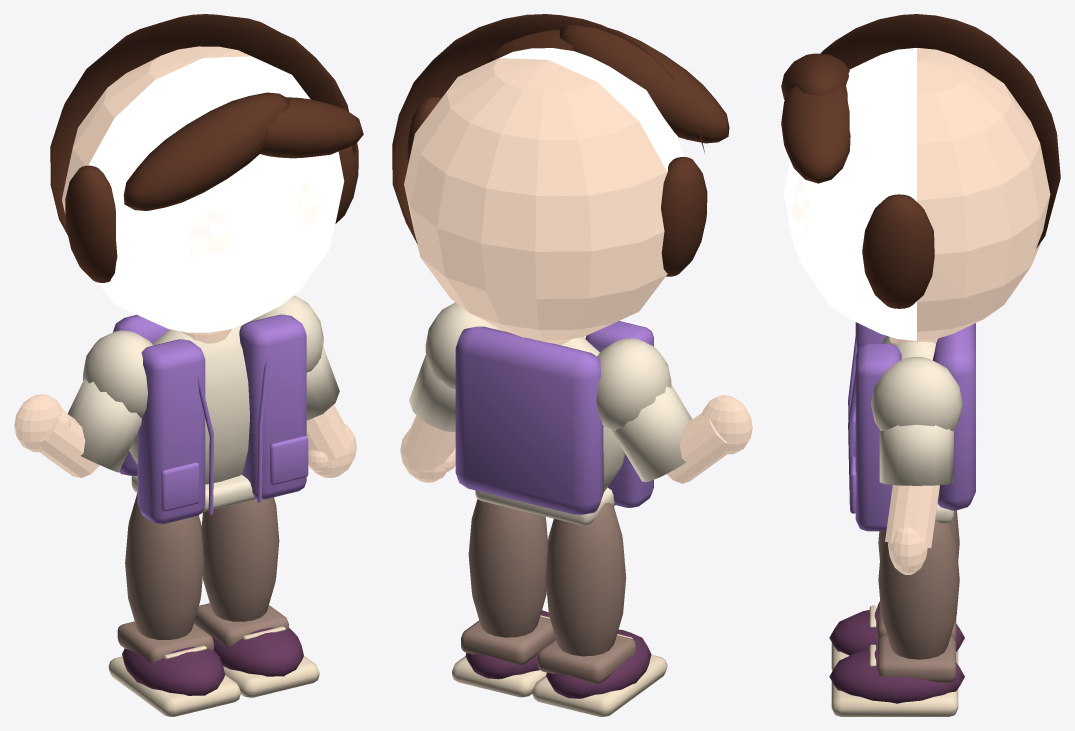
The model's file is person-volunteer.glb.
3 views of the same model, side by side, from view 1: azimuth 30°, elevation 25°; view 2: azimuth 150°, elevation 25°; view 3: azimuth 270°, elevation 25° (orthographic). The views are drawn at different scales.
Visible parts, largest first — view 1: Smooth skin round head, Rounded short hair volume, Soft swept hair clump, Open vest panel -1, Open vest panel 1, Trouser leg -1, Trouser leg 1, Tee torso, Soft swept hair clump.002, Soft swept hair clump.001, Tee sleeve -1, Tee shoulder -1 (+19 smaller); view 2: Smooth skin round head, Vest back, Trouser leg -1, Trouser leg 1, Soft swept hair clump, Rounded short hair volume, Tee shoulder -1, Soft swept hair clump.002, Tee sleeve -1, Tee shoulder 1, Trouser cuff -1, Sneaker sole -1 (+14 smaller); view 3: Smooth skin round head, Rounded short hair volume, Trouser leg 1, Soft swept hair clump.003, Soft swept hair clump.001, Tee shoulder 1, Open vest panel 1, Vest back, Tee sleeve 1, Sneaker upper 1, Sneaker sole 1, Forearm 1 (+6 smaller).
Boxes of the visible parts, x1,y1,x2,y2 form: Smooth skin round head: (62,46,344,332); Rounded short hair volume: (50,14,356,235); Soft swept hair clump: (123,92,289,210); Open vest panel -1: (137,339,205,523); Open vest panel 1: (239,314,306,499); Trouser leg -1: (125,493,204,639); Trouser leg 1: (201,497,279,621); Tee torso: (129,324,249,484); Soft swept hair clump.002: (65,165,117,282); Soft swept hair clump.001: (260,97,363,158); Tee sleeve -1: (67,378,141,472); Tee shoulder -1: (83,330,153,418); Smooth skin round head: (404,48,682,340); Vest back: (455,326,603,514); Trouser leg -1: (545,502,626,656); Trouser leg 1: (468,499,547,637); Soft swept hair clump: (559,24,729,143); Rounded short hair volume: (392,14,704,243); Tee shoulder -1: (596,338,671,430); Soft swept hair clump.002: (661,157,707,276); Tee sleeve -1: (611,384,692,481); Tee shoulder 1: (425,302,504,388); Trouser cuff -1: (537,635,636,683); Sneaker sole -1: (532,654,667,716); Smooth skin round head: (783,48,1050,340); Rounded short hair volume: (820,14,1060,248); Trouser leg 1: (878,520,959,659); Soft swept hair clump.003: (862,194,934,308); Soft swept hair clump.001: (781,86,850,183); Tee shoulder 1: (871,356,962,430); Open vest panel 1: (855,343,901,531); Vest back: (932,323,975,510); Tee sleeve 1: (879,424,953,485); Sneaker upper 1: (829,647,964,703); Sneaker sole 1: (831,681,958,716); Forearm 1: (885,485,939,548).
Bounding box in the file's own units: 0.906 × 1.65 × 0.6388.
Materials: 8 (1 with a texture image).
